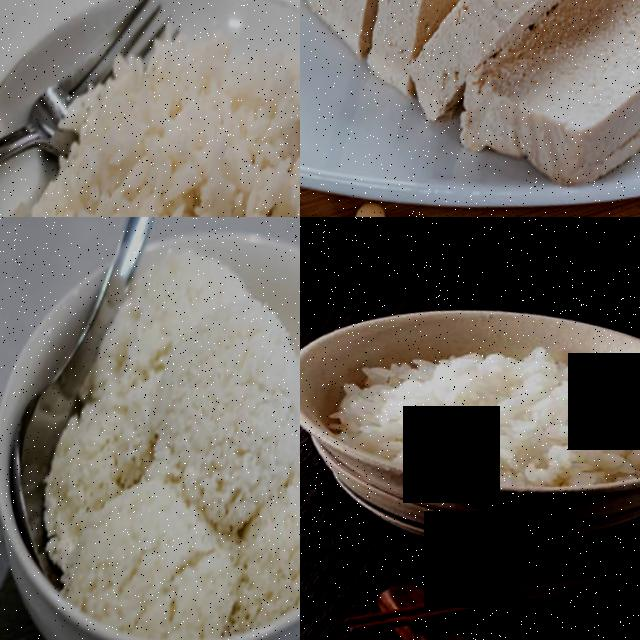tofu: (547, 0, 640, 217)
white rice: (315, 294, 640, 545), (26, 41, 300, 217), (126, 282, 300, 555), (54, 462, 255, 640), (236, 434, 300, 588)
